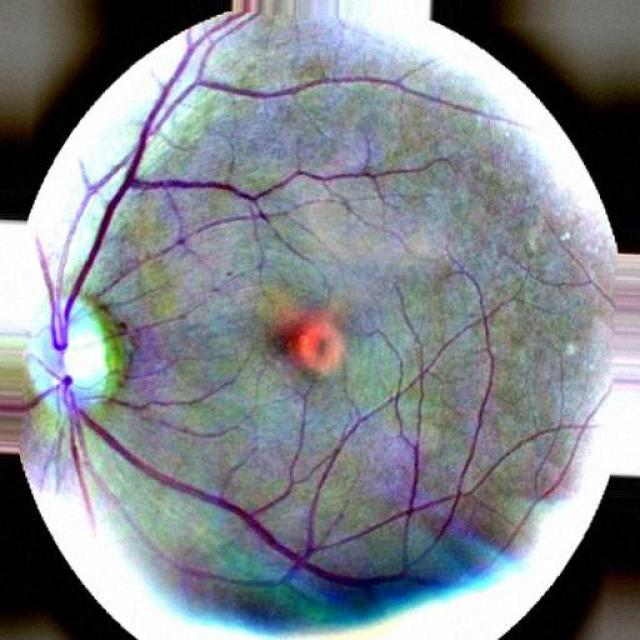Macula: (274, 310, 347, 376)
Nerves: (60, 376, 411, 589), (53, 21, 261, 350), (93, 380, 238, 412)
Optic Disk: (25, 298, 124, 409)
